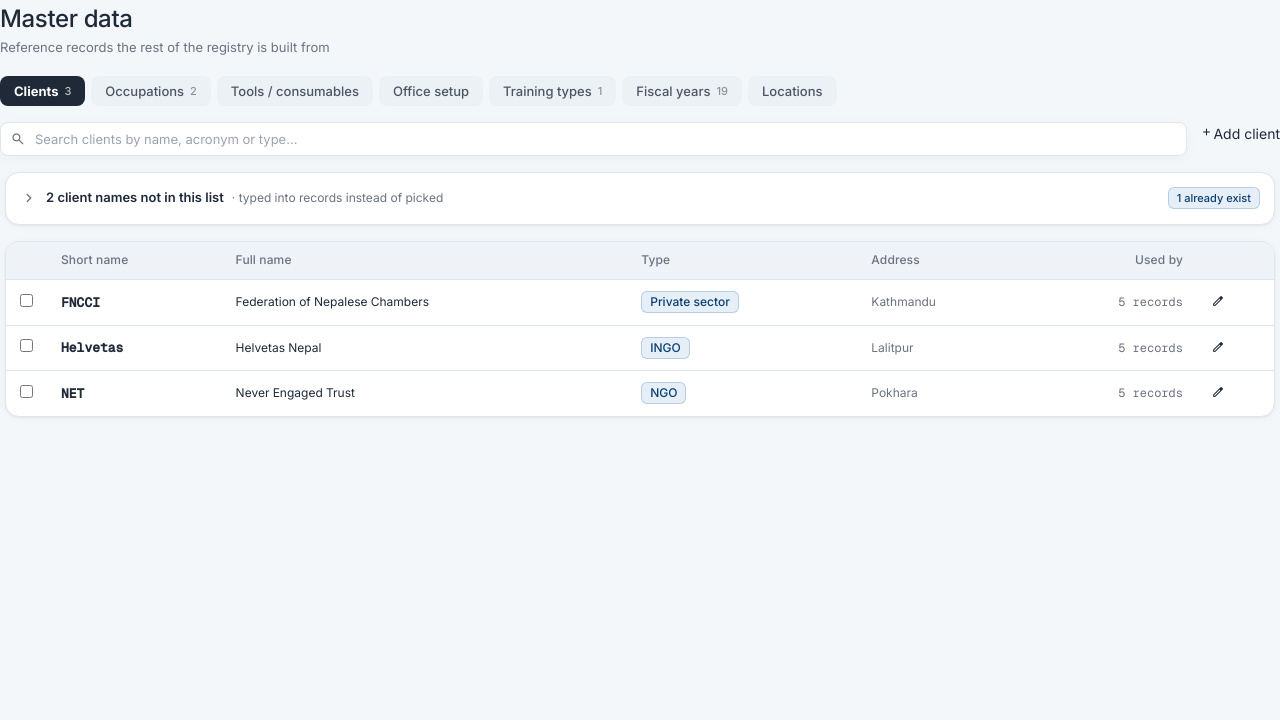
Test: linking a name that already exists › offers no form to fill in
The width and height of the screenshot is (1280, 720).
Click the button: (92, 197) [20,184,1260,212]
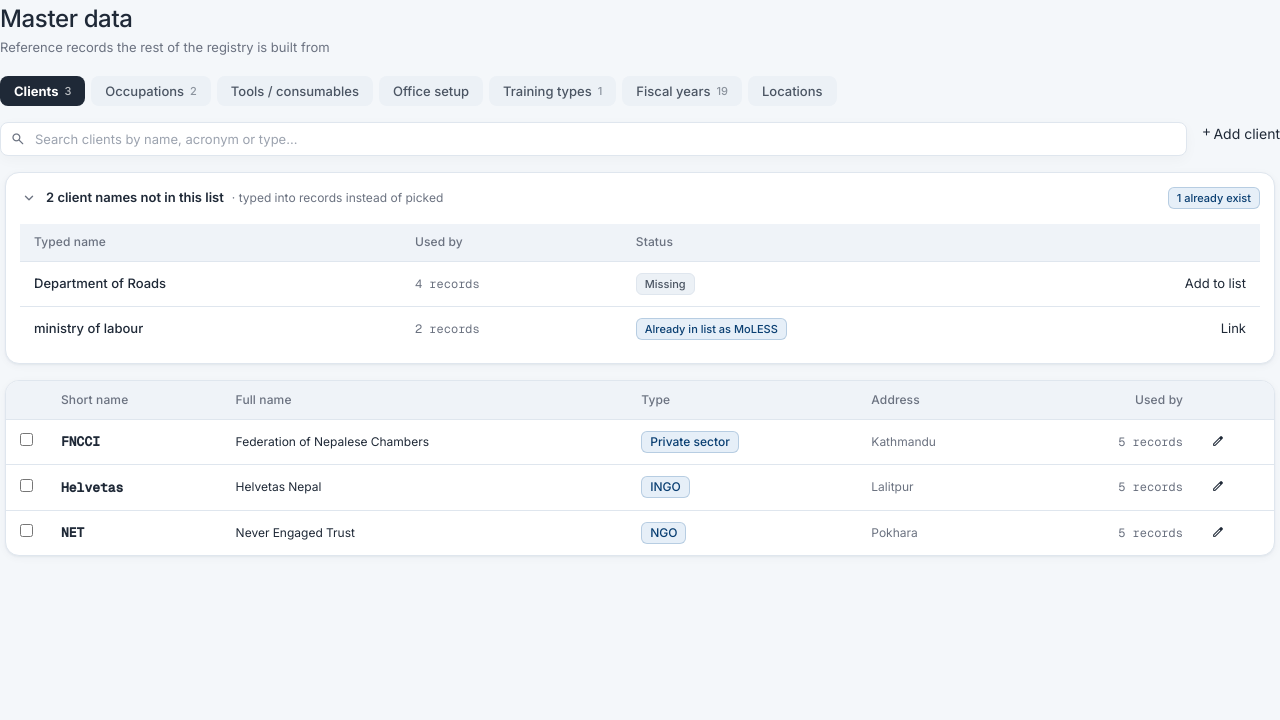
Click the text "Link": (1233, 328) [1221,320,1246,336]
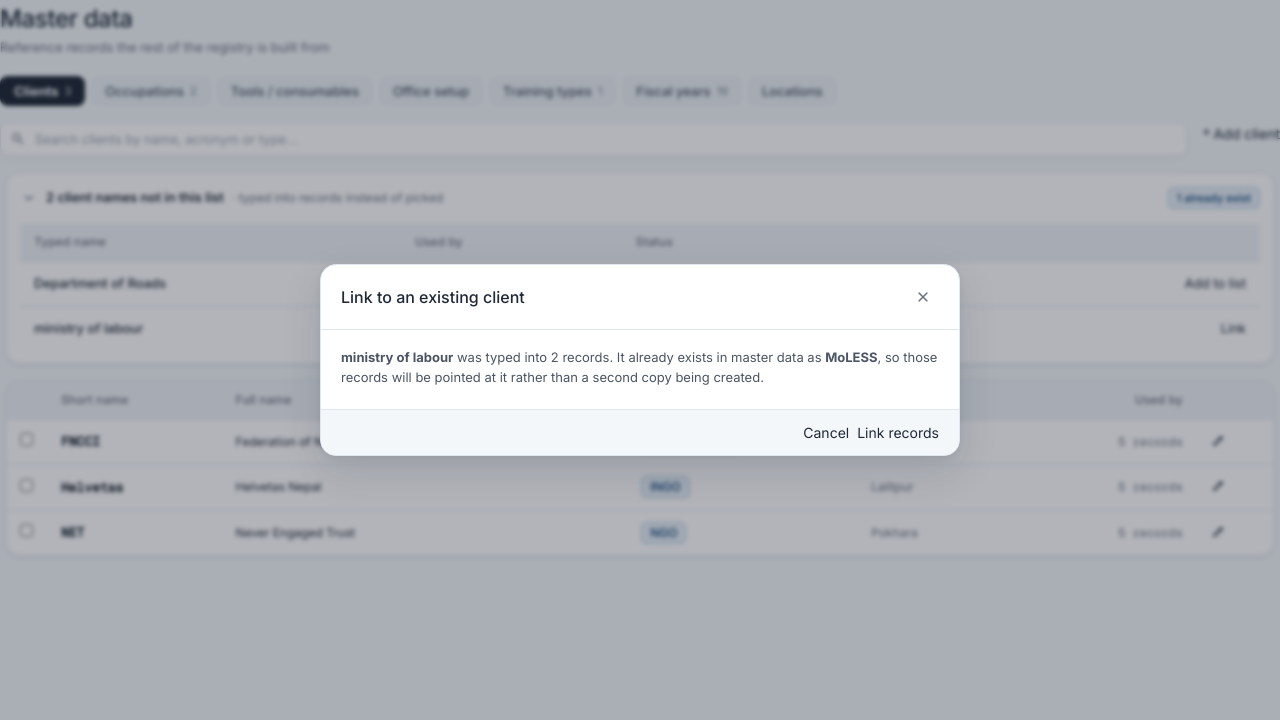
Now the dialog shows "Link to an existing client", box [341,287,525,307]
Now the dialog shows "already exists in master data as", box [613,349,825,365]
Now the text "Link records" is shown, box [857,422,939,443]
